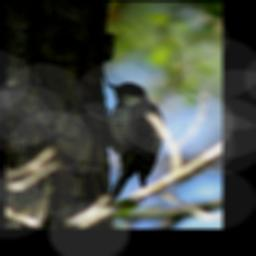Woodpecker: (103, 81, 166, 206)
